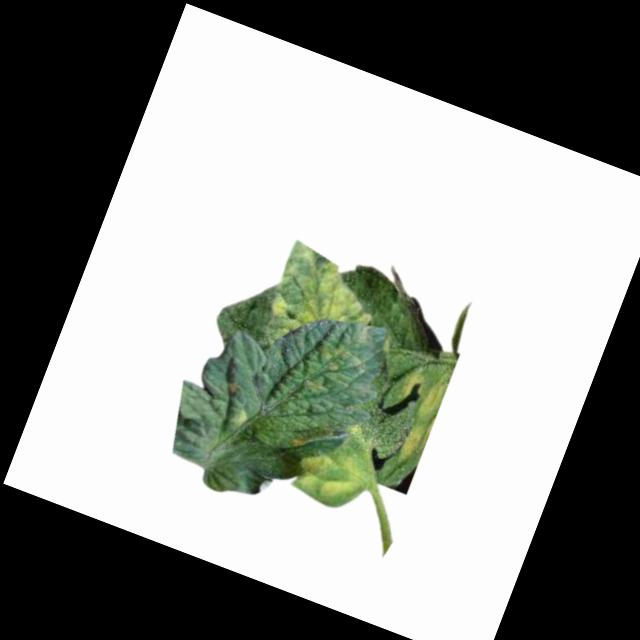Leaf_Mold: (260, 238, 389, 365), (288, 438, 370, 513), (312, 315, 385, 386), (391, 418, 429, 469), (415, 378, 449, 427), (300, 367, 337, 401), (401, 369, 429, 403), (286, 425, 311, 452), (229, 403, 251, 430)
